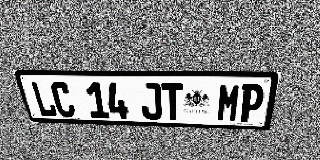1: (84, 82, 109, 118)
4: (104, 82, 129, 119)
C: (49, 81, 76, 117)
J: (140, 82, 162, 120)
L: (29, 81, 58, 117)
M: (216, 83, 242, 122)
P: (238, 84, 266, 123)
T: (161, 83, 183, 120)
